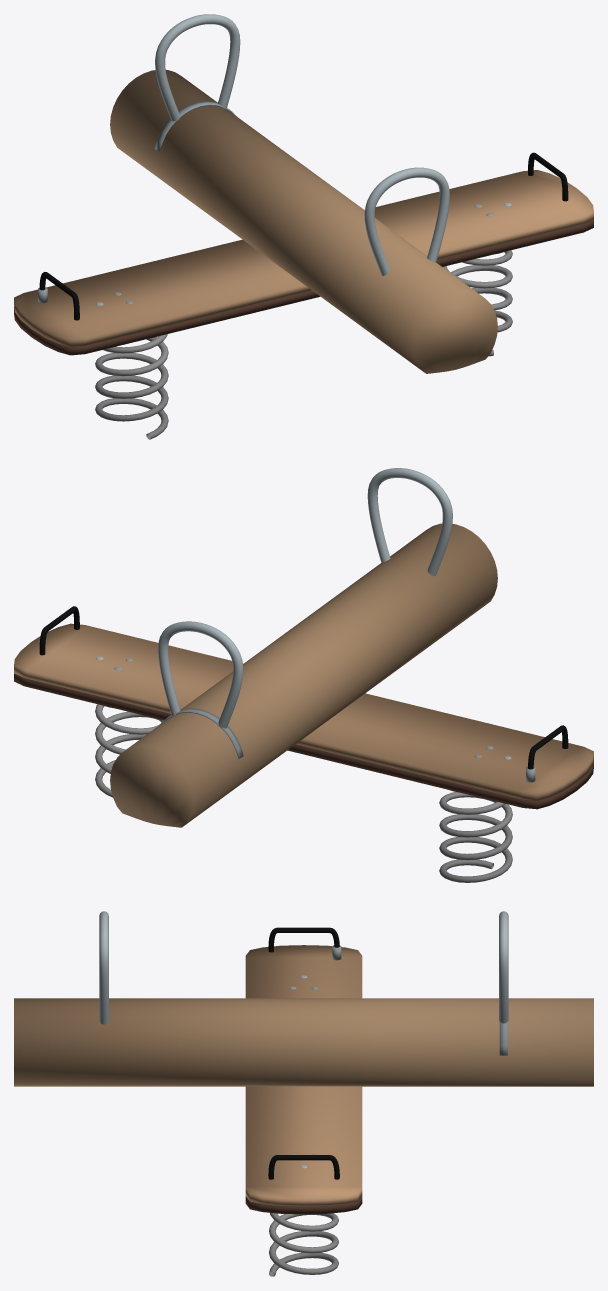
File: DoubleSwingers.fbx
3 views of the same model, one above another, from view 1: azimuth 30°, elevation 25°; view 2: azimuth 150°, elevation 25°; view 3: azimuth 270°, elevation 25° (orthographic). The views are drawn at different scales.
Parts seen in each view (by area): view 1: BézierCurve.004; view 2: BézierCurve.004; view 3: BézierCurve.004.
Boxes of the visible parts, left/top/right/bottom form: BézierCurve.004: left=14, top=14, right=593, bottom=439; BézierCurve.004: left=14, top=468, right=593, bottom=882; BézierCurve.004: left=14, top=911, right=593, bottom=1276.
Bounding box in the file's own units: 3.36 × 3.24 × 1.72.
